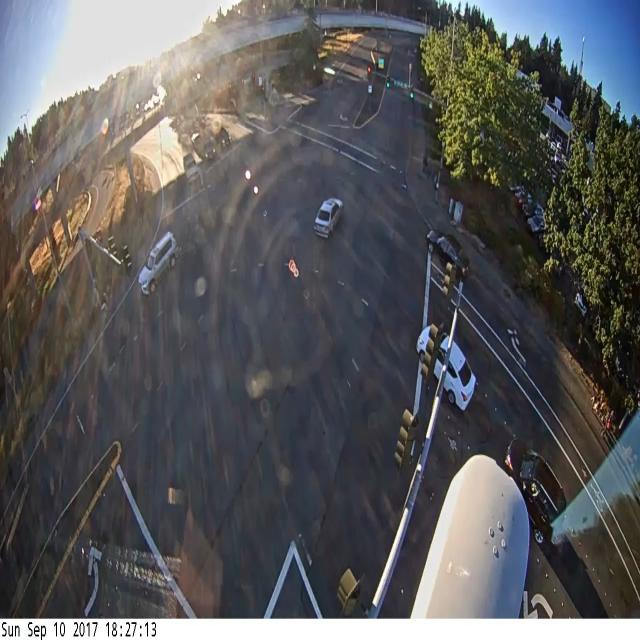car: (504, 439, 566, 544), (138, 232, 178, 295), (444, 342, 475, 410), (426, 231, 469, 275), (314, 199, 343, 238), (183, 153, 203, 186), (215, 127, 230, 149), (527, 215, 544, 234), (203, 140, 217, 162), (575, 292, 587, 317)
